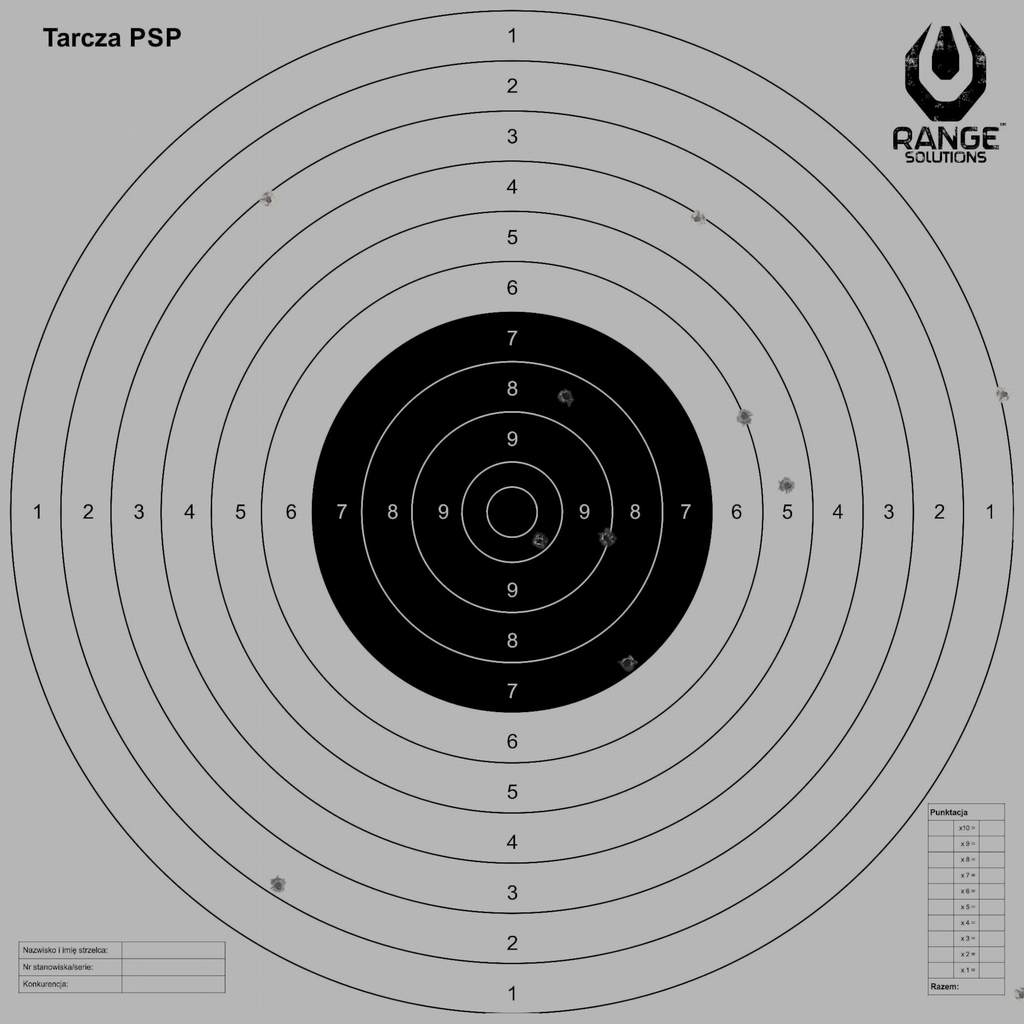0 punktow: (1012, 986, 1024, 1004)
1 punkt: (995, 385, 1013, 404)
10 punktow: (530, 532, 549, 550)
2 punkty: (269, 876, 287, 895)
3 punkty: (259, 191, 278, 209)
4 punkty: (688, 209, 707, 228)
5 punktow: (778, 476, 796, 495)
6 punktow: (735, 407, 754, 426)
7 punktow: (618, 654, 637, 672)
8 punktow: (557, 387, 575, 406)
9 punktow: (597, 529, 616, 547)
